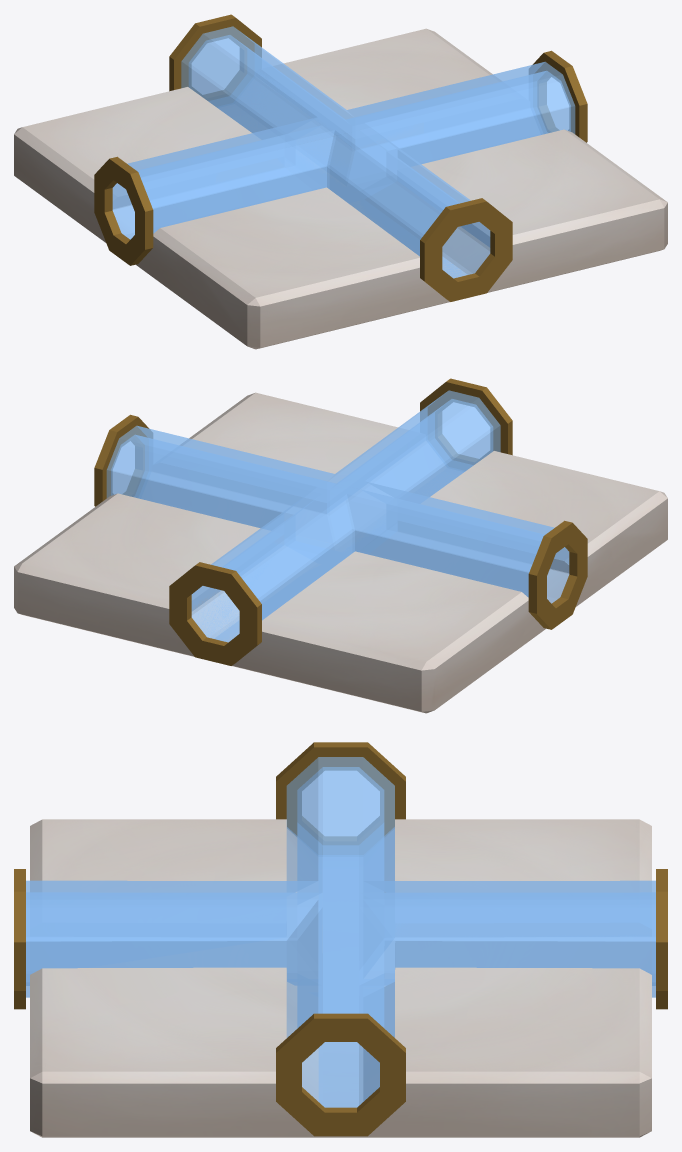
The model's file is cross_piece_merged.fbx.
The picture shows the model from 3 angles, top to bottom: view 1: azimuth 30°, elevation 25°; view 2: azimuth 150°, elevation 25°; view 3: azimuth 270°, elevation 25°; orthographic projection. The views are drawn at different scales.
Parts seen in each view (by area): view 1: puzzle_piece_cross_base, cross_pipe, cross_pipe_endcap3, cross_pipe_endcap2, cross_pipe_endcap1, cross_pipe_endcap4; view 2: puzzle_piece_cross_base, cross_pipe, cross_pipe_endcap1, cross_pipe_endcap2, cross_pipe_endcap3, cross_pipe_endcap4; view 3: puzzle_piece_cross_base, cross_pipe, cross_pipe_endcap4, cross_pipe_endcap2, cross_pipe_endcap1, cross_pipe_endcap3.
Part boxes in pixels (box(x1,y1,x2,y2)): puzzle_piece_cross_base: box(14, 28, 667, 349); cross_pipe: box(112, 26, 575, 278); cross_pipe_endcap3: box(420, 198, 512, 301); cross_pipe_endcap2: box(94, 156, 153, 265); cross_pipe_endcap1: box(169, 14, 261, 100); cross_pipe_endcap4: box(529, 50, 587, 142); puzzle_piece_cross_base: box(14, 392, 667, 713); cross_pipe: box(106, 390, 569, 642); cross_pipe_endcap1: box(169, 562, 261, 665); cross_pipe_endcap2: box(528, 520, 587, 629); cross_pipe_endcap3: box(420, 378, 512, 464); cross_pipe_endcap4: box(94, 414, 152, 506); puzzle_piece_cross_base: box(30, 819, 651, 1137); cross_pipe: box(26, 757, 655, 1107); cross_pipe_endcap4: box(276, 1013, 405, 1136); cross_pipe_endcap2: box(276, 742, 405, 844); cross_pipe_endcap1: box(656, 869, 667, 1009); cross_pipe_endcap3: box(14, 869, 25, 1009).
Bounding box in the file's own units: 145 × 32.15 × 145.
